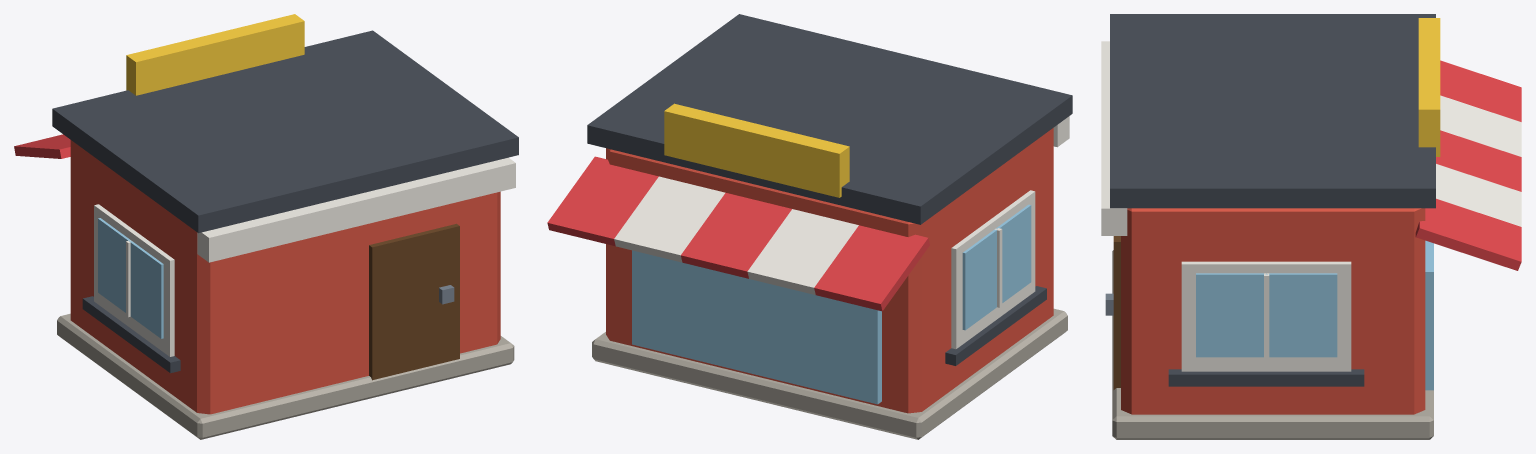
Rendered from shop.glb.
The picture shows the model from 3 angles, left to right: view 1: azimuth 30°, elevation 25°; view 2: azimuth 150°, elevation 25°; view 3: azimuth 270°, elevation 25°; orthographic projection. The views are drawn at different scales.
Parts seen in each view (by area): view 1: shop; view 2: shop; view 3: shop.
Boxes of the visible parts, x1,y1,x2,y2 form: shop: [14, 14, 518, 439]; shop: [547, 14, 1072, 439]; shop: [1101, 14, 1521, 439].
Bounding box in the file's own units: 1.92 × 1.48 × 1.93.
1 material, 1 textured.
